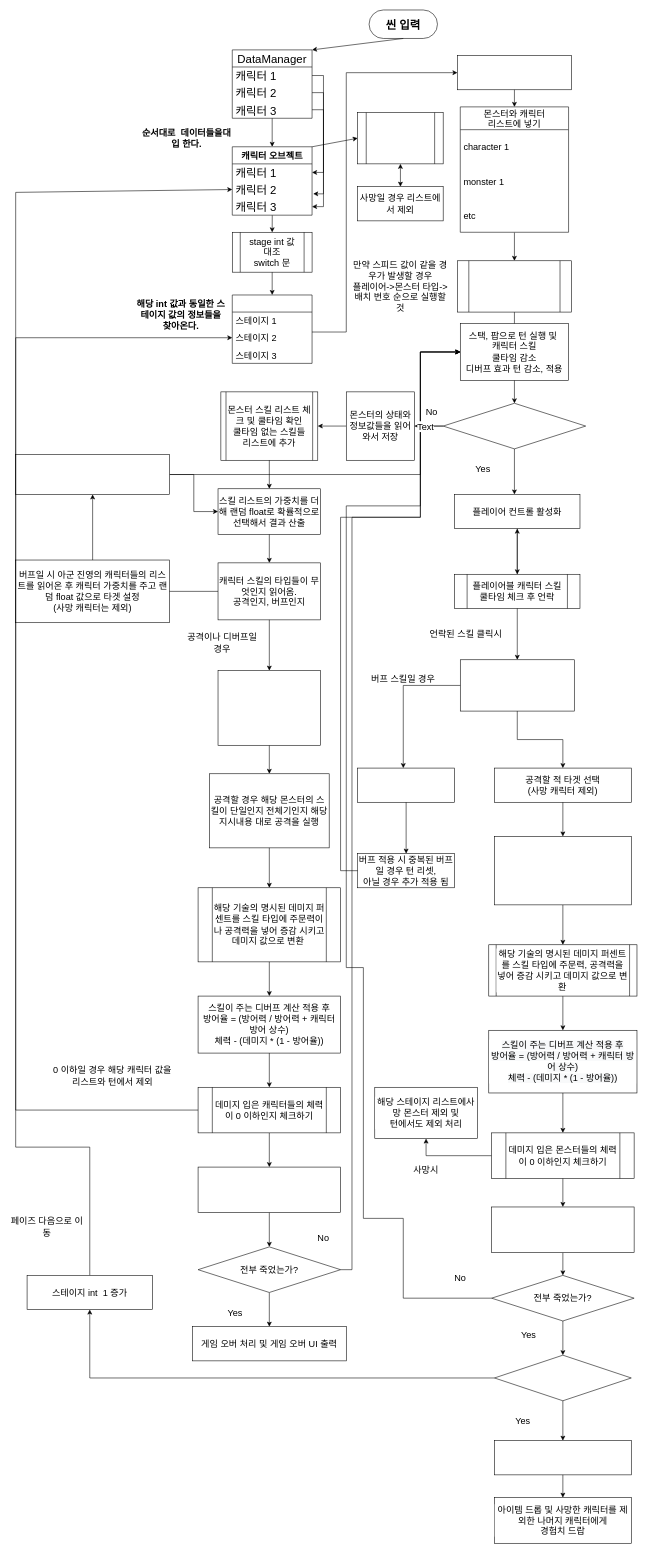
This 647x1553 diagram has some shape labels left out. The shapes that lost their labels are listed below. From the top down, each one's box as (x1, y1, x2, y2) in pixels, then its label:
(457, 55, 571, 90): 해당 스테이지 정보 값 대로 몬스터들을 배치한다.
(357, 112, 443, 164): 캐릭터가 사망을 했는지 마지막 리스트의 값까지 확인
(457, 260, 571, 312): 삽입 정렬 방식으로 오브젝트의 speed 값을 비교하여 순서대로 정렬해 링크 배치하기
(232, 294, 312, 363): 스테이지 정보
(443, 403, 586, 449): 현재 턴이 플레이어 타입인가?
(15, 454, 170, 494): 버프 적용, 중복된 버프일 경우 버프의 턴을 리셋 시키고 아닐 경우 그냥 그대로 추가한다.
(460, 659, 574, 711): 해당 스킬이 공격이나 디버프인가 아니면 버프인가?
(217, 670, 321, 745): 타겟 캐릭터 리스트 읽기 (사망한 캐릭터는 제외) 그 후 타입에 따라 캐릭터 가중치 주고 랜덤 Float 값으로 타겟을 정함.
(357, 768, 455, 802): 버프 줄 플레이어 선택 (사망 캐릭터 제외)
(494, 836, 631, 905): 공격할 경우 해당 캐릭터의 스킬이 단일인지 전체기인지, 디버프를 주는 지 등의 지시내용 대로 공격을 실행한다.
(198, 1167, 341, 1213): 캐릭터가 전부 죽었는지 체크
(491, 1206, 634, 1253): 몬스터가 전부 죽었는지 체크
(494, 1355, 631, 1401): 마지막 페이즈였는가?
(494, 1440, 631, 1475): 게임 클리어 처리 및 게임 클리어 UI 출력
